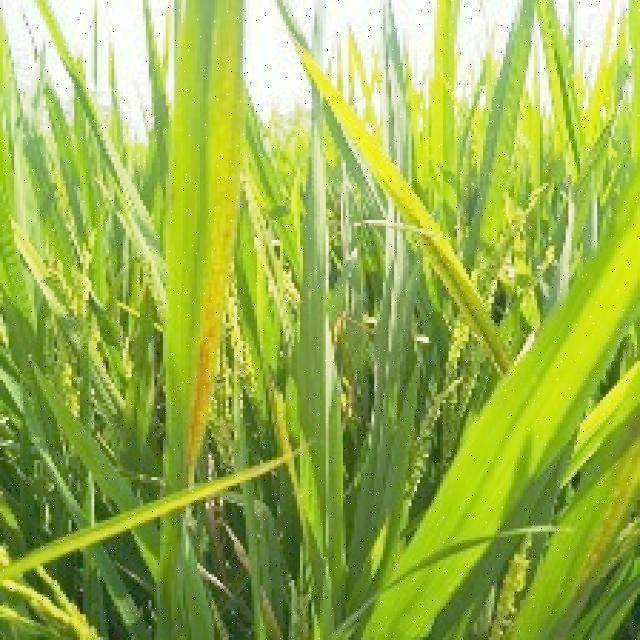-: (0, 0, 189, 640)
